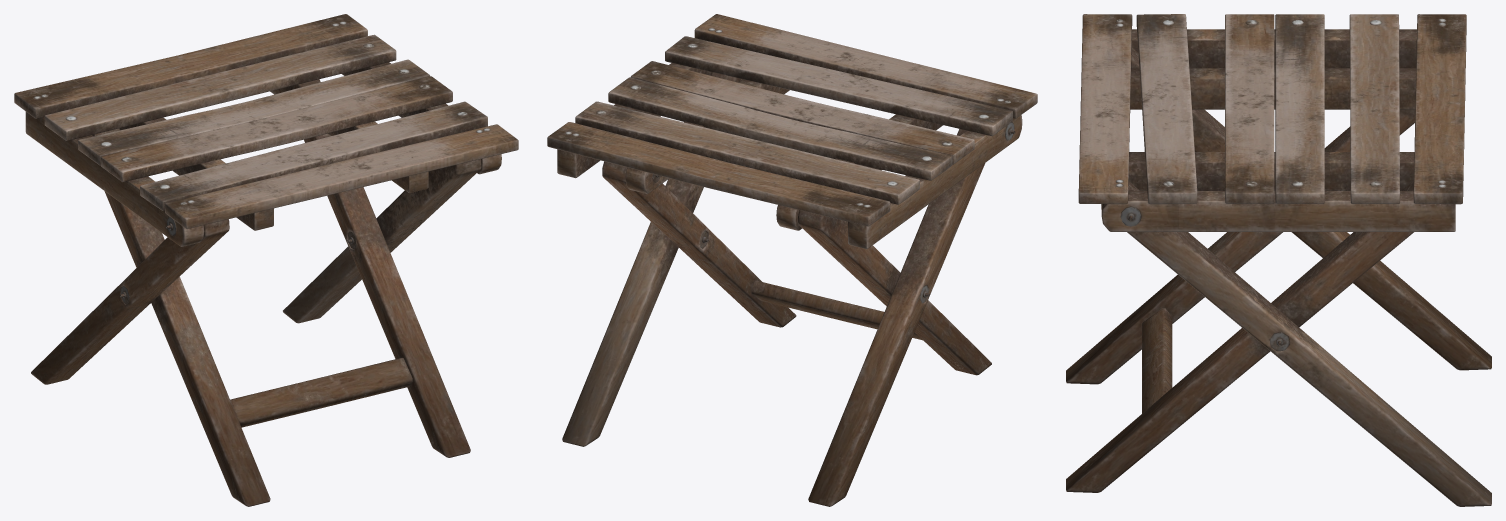
File: small_table.glb
The picture shows the model from 3 angles, left to right: view 1: azimuth 30°, elevation 25°; view 2: azimuth 150°, elevation 25°; view 3: azimuth 270°, elevation 25°; orthographic projection. The views are drawn at different scales.
Parts seen in each view (by area): view 1: folding_wooden_stool; view 2: folding_wooden_stool; view 3: folding_wooden_stool.
Boxes of the visible parts, box(x1,y1,x2,y2) form: folding_wooden_stool: box(14, 14, 518, 506); folding_wooden_stool: box(547, 14, 1037, 506); folding_wooden_stool: box(1066, 14, 1491, 506).
Bounding box in the file's own units: 0.9 × 0.77 × 0.9.
1 material, 1 textured.
